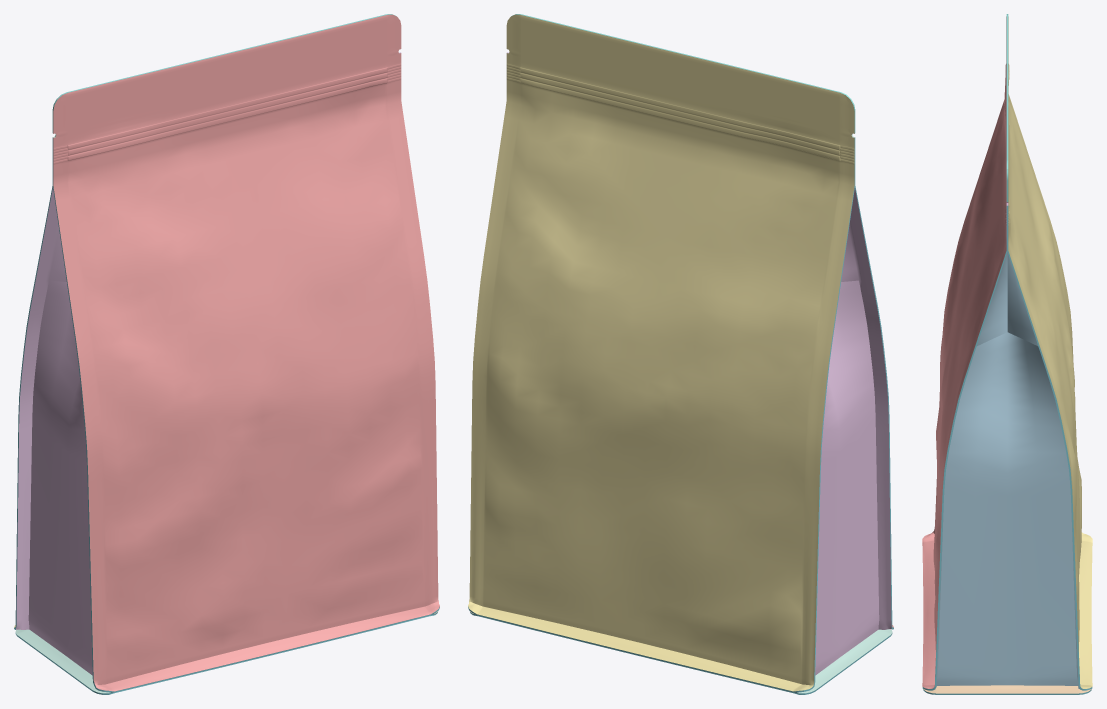
File: 3_gusset_zipper_pouch_group.gltf
The picture shows the model from 3 angles, left to right: view 1: azimuth 30°, elevation 25°; view 2: azimuth 150°, elevation 25°; view 3: azimuth 270°, elevation 25°; orthographic projection. The views are drawn at different scales.
Parts seen in each view (by area): view 1: Front_Panel, Side_Gusset_B, Zipper_Tape, Zipper_Pull_A; view 2: Back_Panel, Side_Gusset_B, Zipper_Tape, Zipper_Pull_A; view 3: Bottom_Gusset, Back_Panel, Front_Panel, Zipper_Tape, Zipper_Pull_B, Hardware_Small.
Part boxes in pixels (box(x1,y1,x2,y2)): Front_Panel: box(53, 14, 439, 691); Side_Gusset_B: box(16, 188, 92, 675); Zipper_Tape: box(14, 137, 439, 694); Zipper_Pull_A: box(15, 629, 110, 693); Back_Panel: box(468, 14, 854, 691); Side_Gusset_B: box(815, 188, 892, 675); Zipper_Tape: box(468, 137, 893, 694); Zipper_Pull_A: box(797, 629, 892, 693); Bottom_Gusset: box(936, 252, 1079, 688); Back_Panel: box(1008, 16, 1092, 688); Front_Panel: box(922, 16, 1006, 688); Zipper_Tape: box(922, 205, 1092, 694); Zipper_Pull_B: box(923, 685, 1091, 693); Hardware_Small: box(1006, 14, 1008, 201).
Size of the model in its own units: 0.2283 by 0.3567 by 0.1039.
